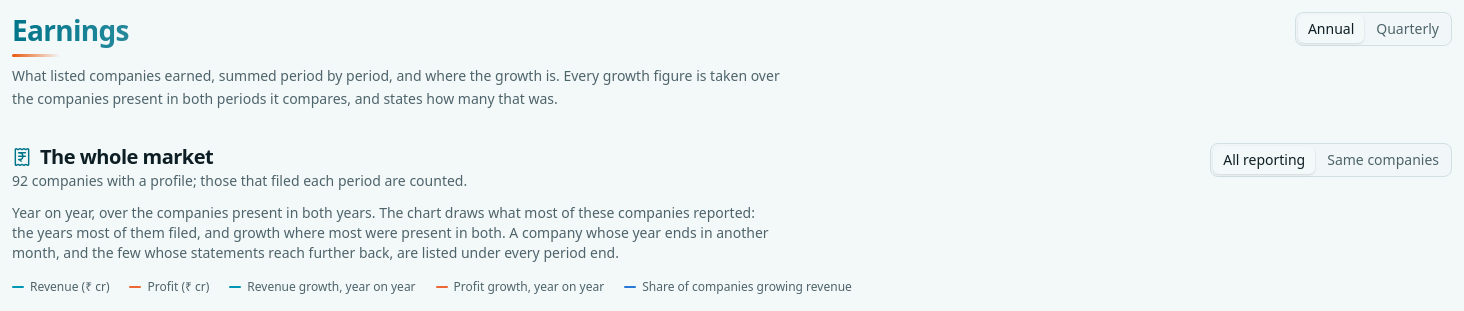
it: EarningsPage › switches both the market series and the sectors to quarterly, in the address
This screenshot has width=1464, height=311.
Click the button "Quarterly" at {"x": 1408, "y": 29}, box [1366,15,1449,43]
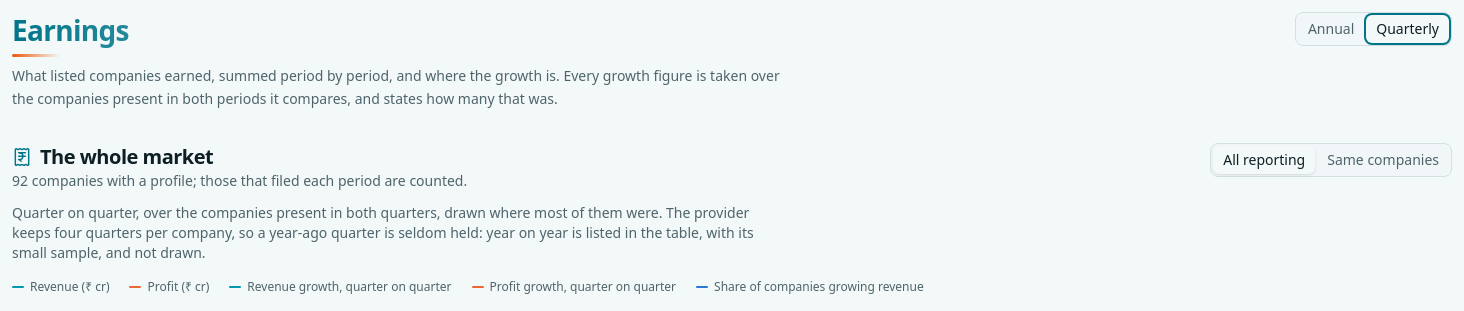
Expected: the text "keeps four quarters per company, so a year-ago" is shown, [12,202,754,262]
Expected: the text "Revenue growth, quarter on quarter" is shown, [247,278,452,294]
